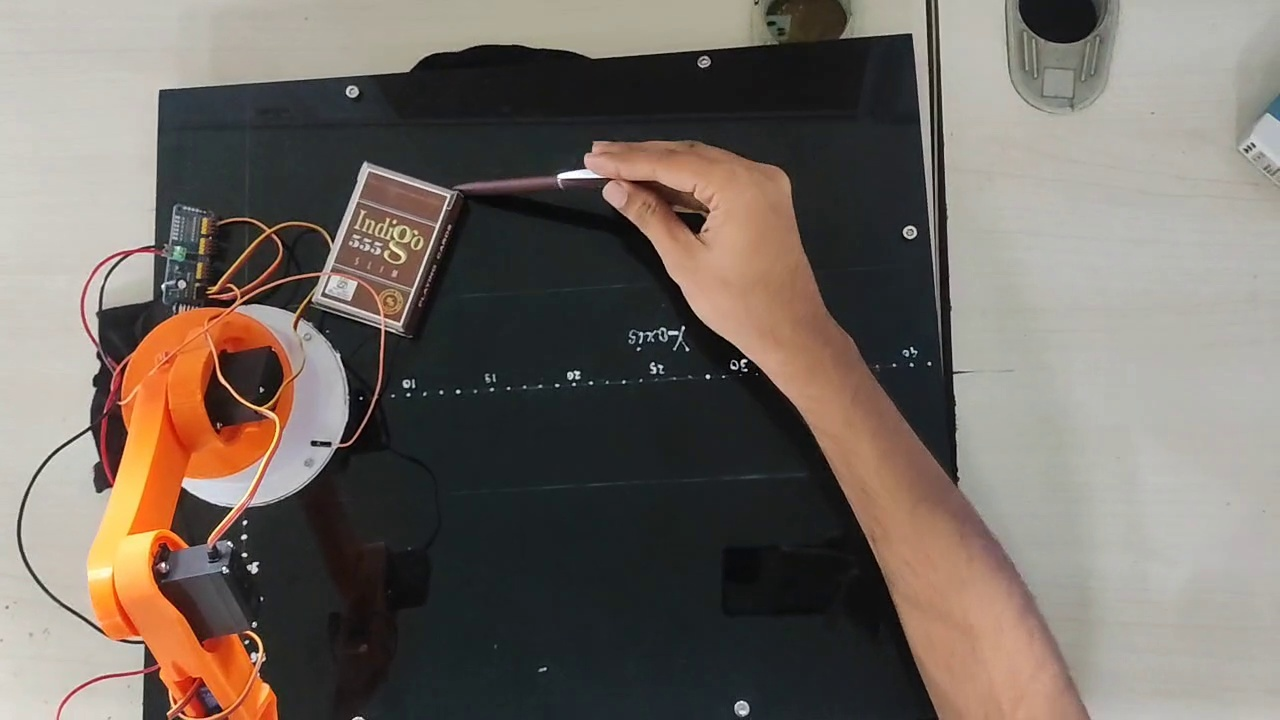BEX: (319, 169, 449, 323)
